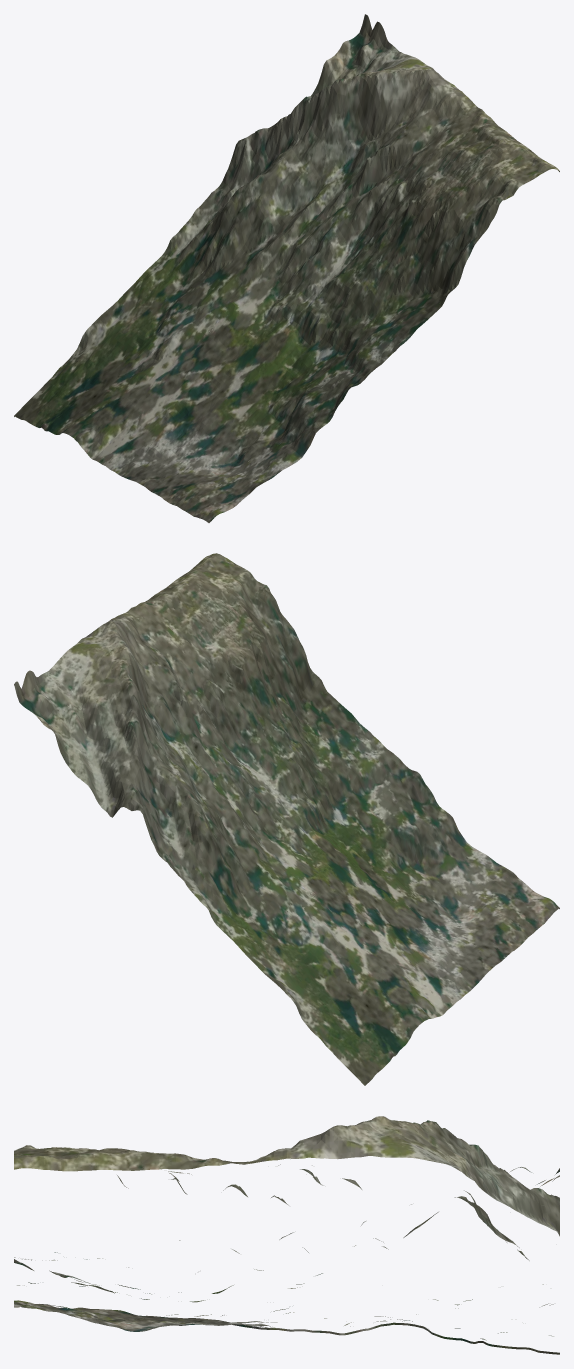
The picture shows the model from 3 angles, top to bottom: view 1: azimuth 30°, elevation 25°; view 2: azimuth 150°, elevation 25°; view 3: azimuth 270°, elevation 25°; orthographic projection. The views are drawn at different scales.
Bounding box in the file's own units: 250 × 222 × 241.
1 material, 1 textured.
